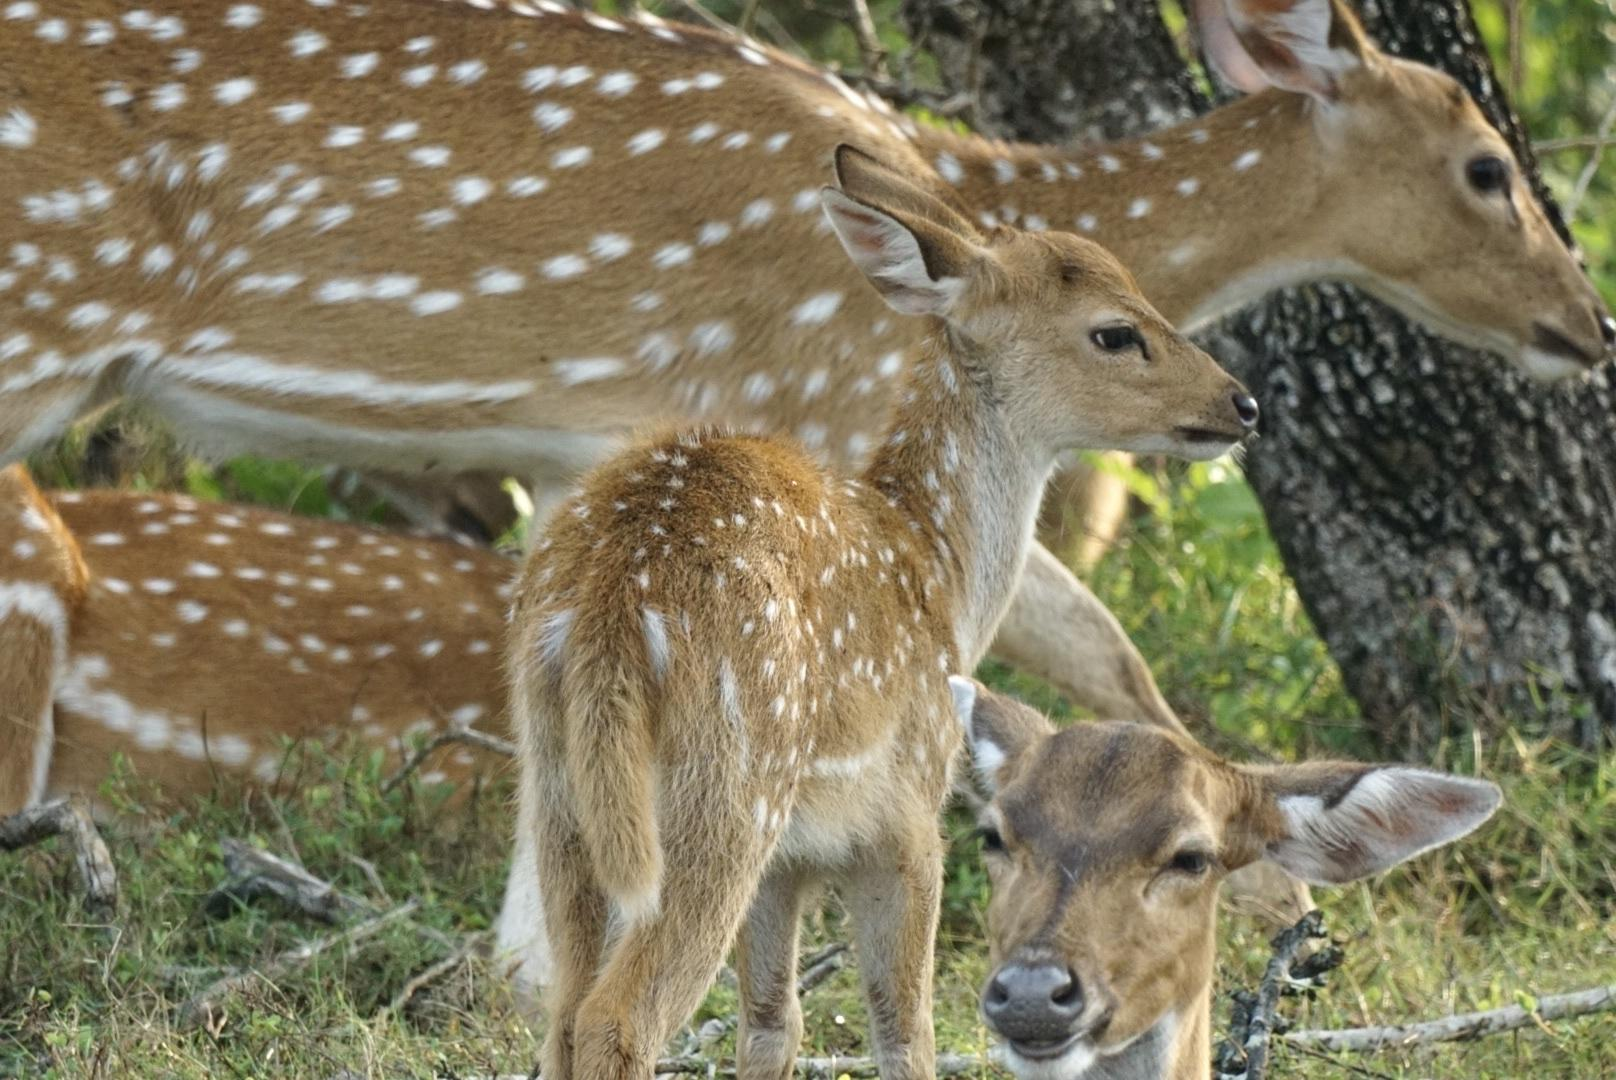Deer: (509, 143, 1258, 1079), (969, 680, 1498, 1079)
